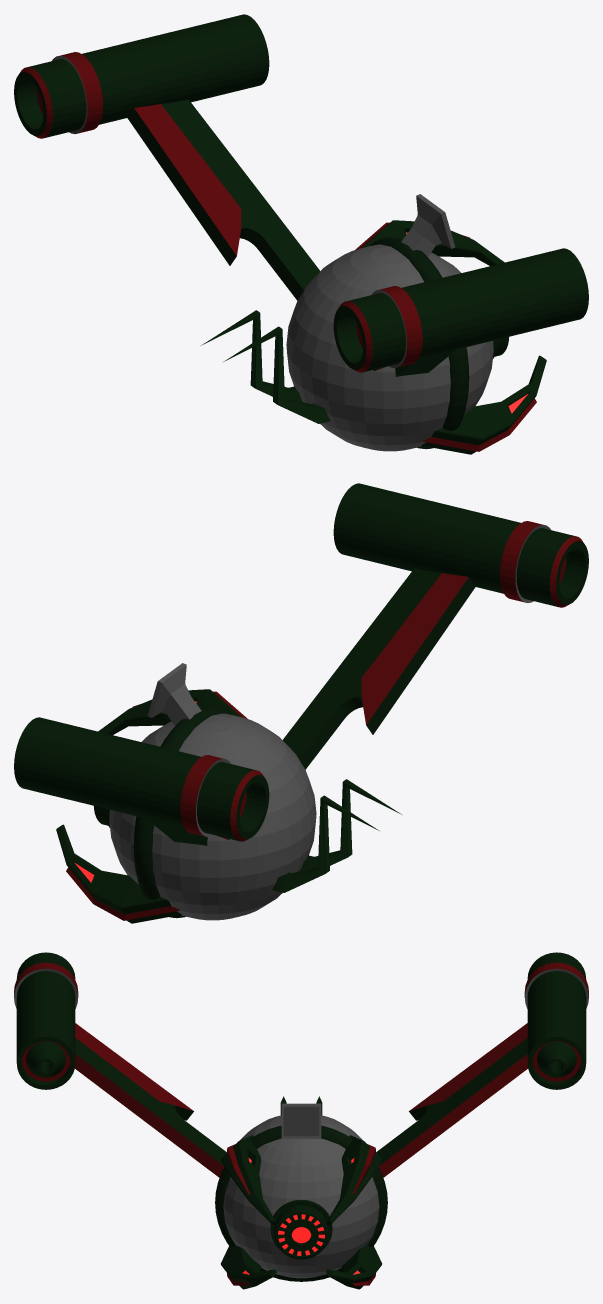
The model's file is Drone.fbx.
3 renders of one model, top to bottom at view 1: azimuth 30°, elevation 25°; view 2: azimuth 150°, elevation 25°; view 3: azimuth 270°, elevation 25°, orthographic. The views are drawn at different scales.
Parts seen in each view (by area): view 1: Drone; view 2: Drone; view 3: Drone.
Boxes of the visible parts, bbox=[...] form: Drone: bbox=[14, 14, 588, 454]; Drone: bbox=[14, 483, 588, 923]; Drone: bbox=[14, 952, 588, 1289].
Bounding box in the file's own units: 375 × 329 × 693.
